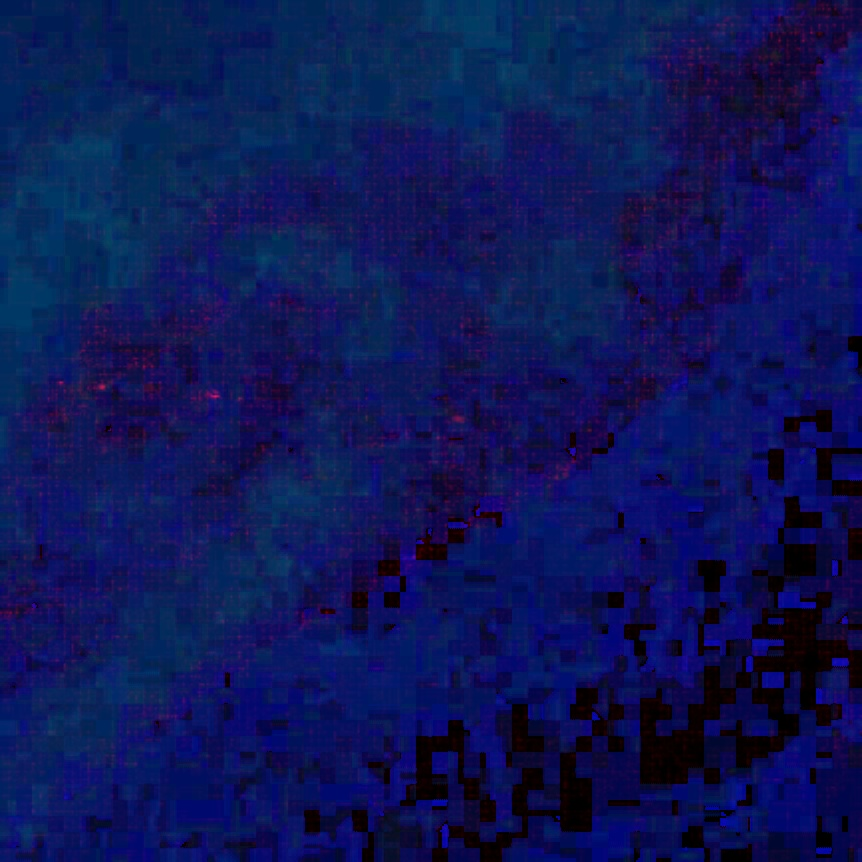rip_current: (191, 222, 496, 421)
